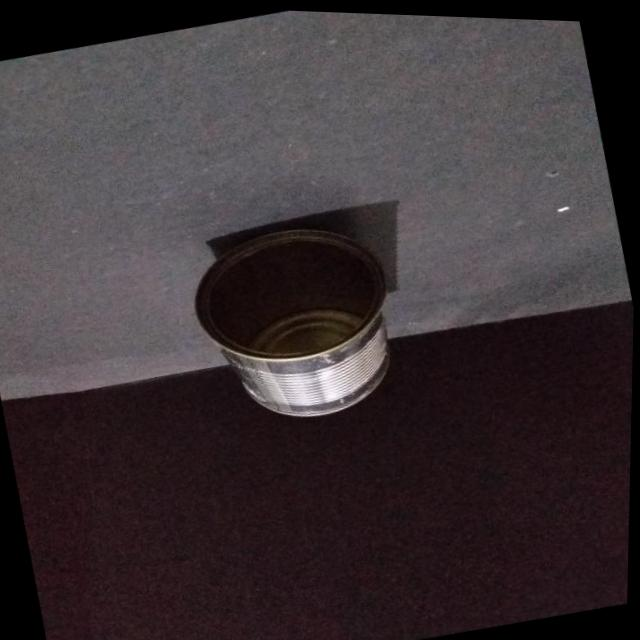metal: (196, 203, 396, 416)
